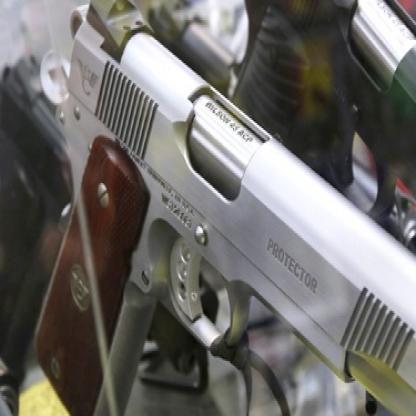gun: (0, 0, 416, 415), (206, 0, 415, 371), (0, 78, 89, 414)
